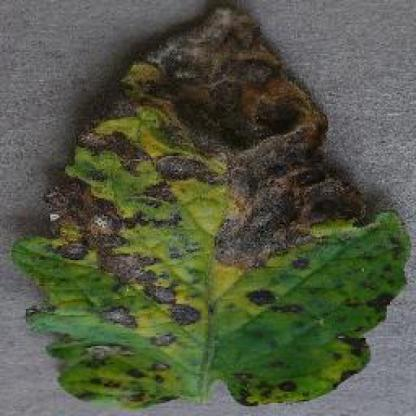Tomato_Blight: (14, 6, 408, 402)
